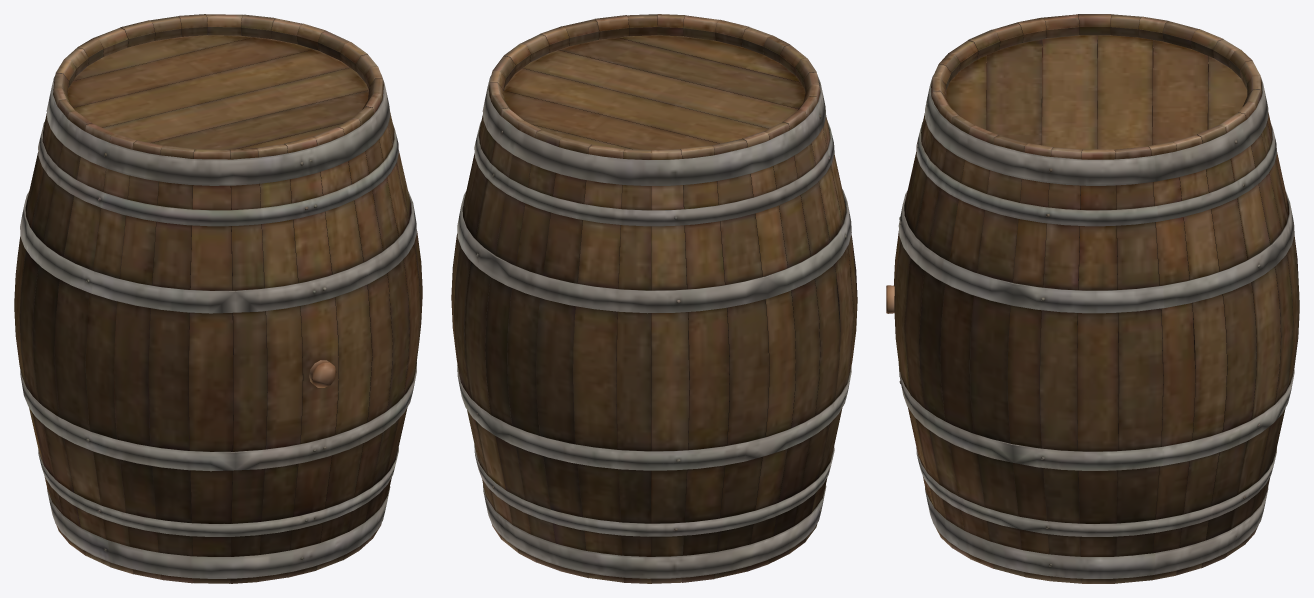
The model's file is wine_barrel_01.glb.
3 renders of one model, left to right at view 1: azimuth 30°, elevation 25°; view 2: azimuth 150°, elevation 25°; view 3: azimuth 270°, elevation 25°, orthographic.
Parts seen in each view (by area): view 1: wine_barrel_01_Lid; view 2: wine_barrel_01_Lid; view 3: wine_barrel_01_Lid.
Part boxes in pixels (x1,y1,x2,y2): wine_barrel_01_Lid: (14,14,422,583); wine_barrel_01_Lid: (451,14,857,583); wine_barrel_01_Lid: (886,14,1299,583).
Size of the model in its own units: 0.742 by 0.8696 by 0.7554.
Materials: 1 (1 with a texture image).
